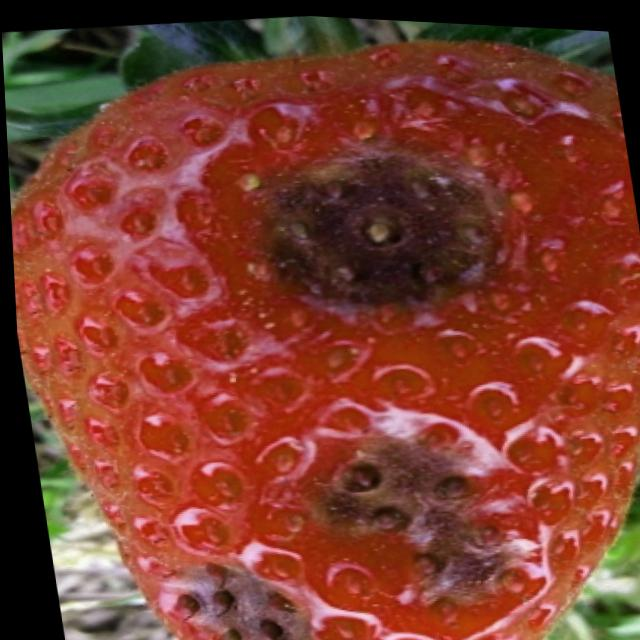Anthracnose Fruit Rot: (140, 127, 540, 640)
